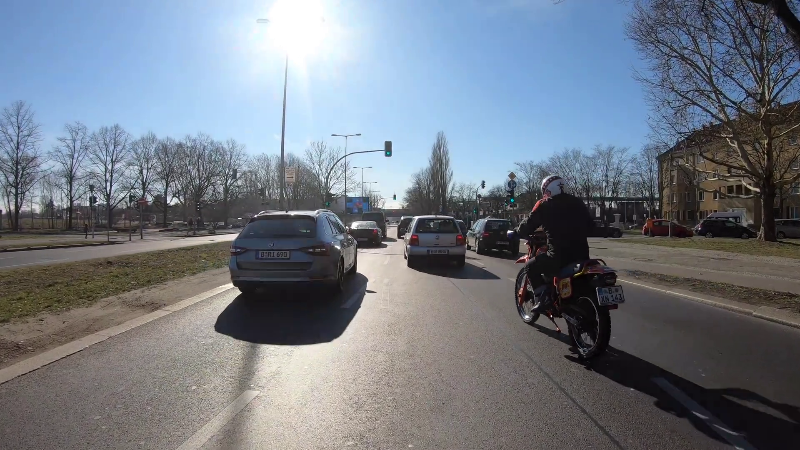Plate: (253, 248, 293, 261), (424, 249, 450, 256)
